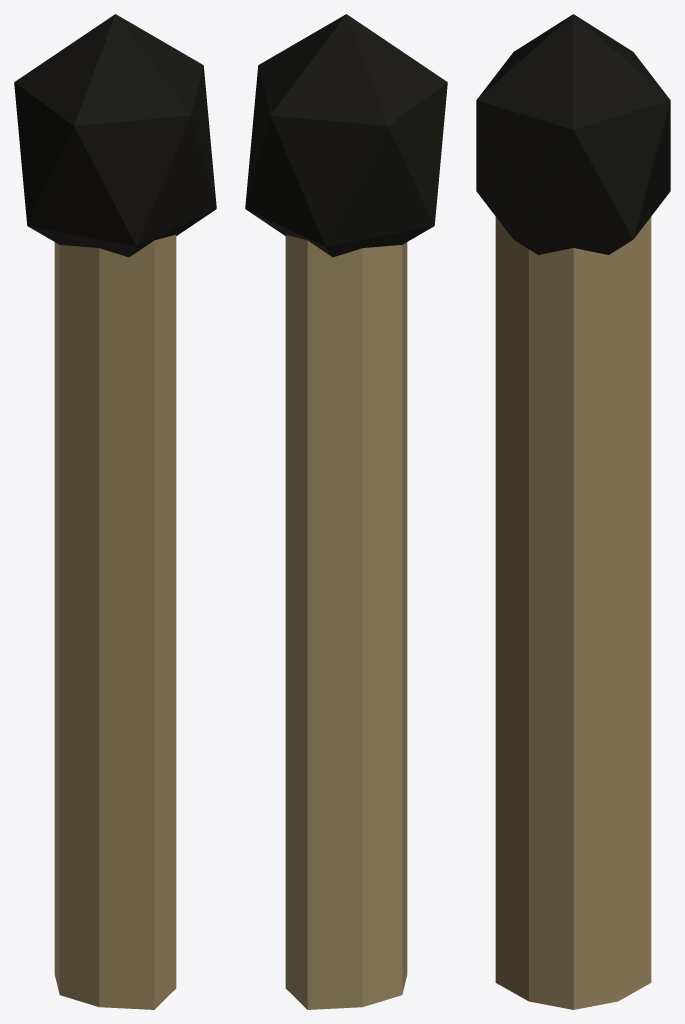
File: matchstick.fbx
3 views of the same model, side by side, from view 1: azimuth 30°, elevation 25°; view 2: azimuth 150°, elevation 25°; view 3: azimuth 270°, elevation 25° (orthographic).
Visible parts, largest first — view 1: matchstick_handle, matchstick_head; view 2: matchstick_handle, matchstick_head; view 3: matchstick_handle, matchstick_head.
Part boxes in pixels (bbox=[...]): matchstick_handle: bbox=[54, 235, 176, 1009]; matchstick_head: bbox=[14, 14, 216, 257]; matchstick_handle: bbox=[285, 235, 407, 1009]; matchstick_head: bbox=[245, 14, 447, 257]; matchstick_handle: bbox=[495, 217, 651, 1009]; matchstick_head: bbox=[476, 14, 670, 254].
Size of the model in its own units: 3.56 by 18.63 by 3.38.
